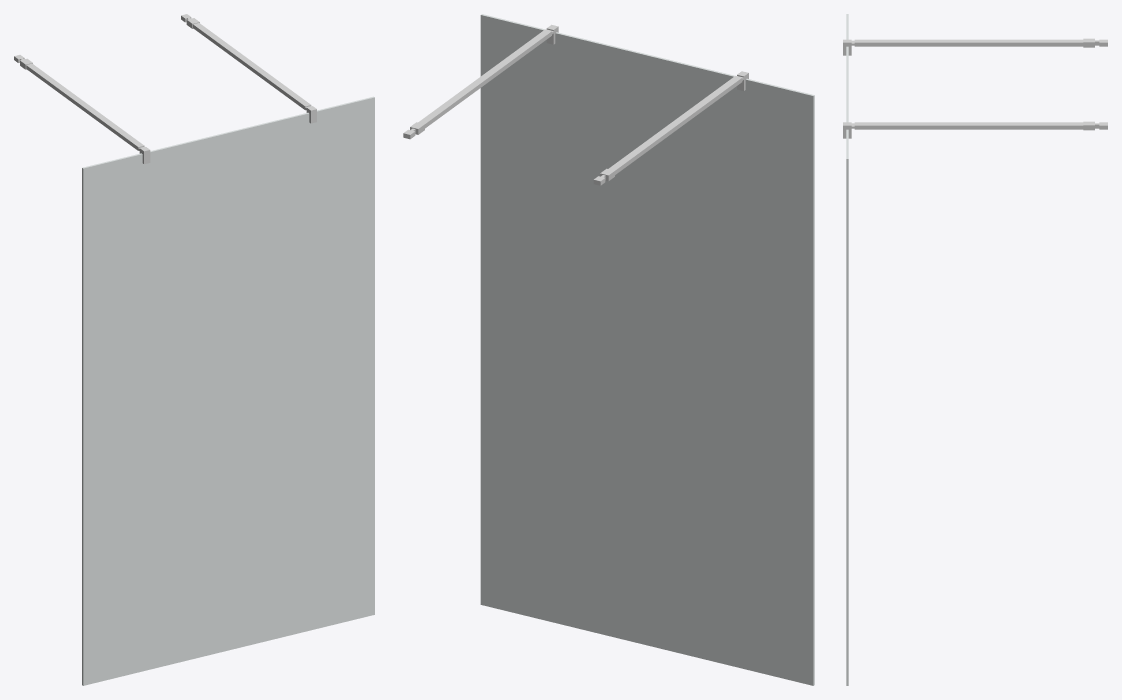
Rendered from AEC_49164.glb.
The picture shows the model from 3 angles, left to right: view 1: azimuth 30°, elevation 25°; view 2: azimuth 150°, elevation 25°; view 3: azimuth 270°, elevation 25°; orthographic projection. The views are drawn at different scales.
Visible parts, largest first — view 1: 0; view 2: 0; view 3: 0.
Boxes of the visible parts, x1=… form: 0: x1=14, y1=14, x2=374, y2=685; 0: x1=403, y1=14, x2=814, y2=685; 0: x1=843, y1=14, x2=1107, y2=685.
Size of the model in its own units: 1.18 by 2.02 by 0.9111.
1 material, 1 textured.
